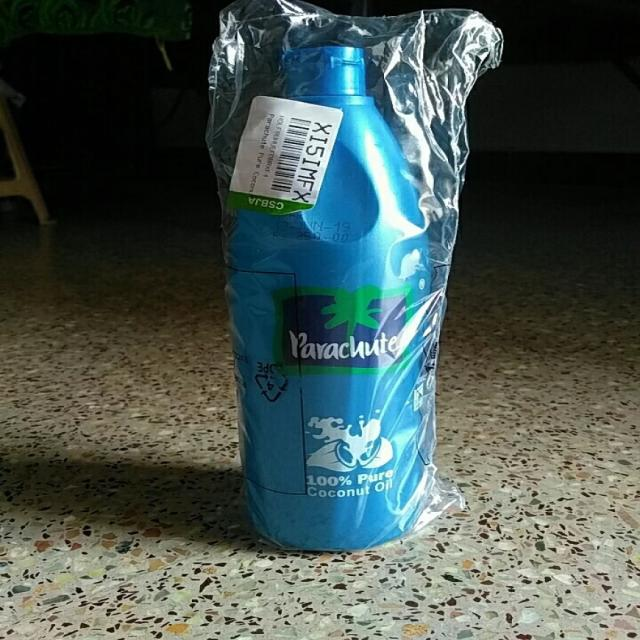parachute_oil: (221, 18, 446, 557)
